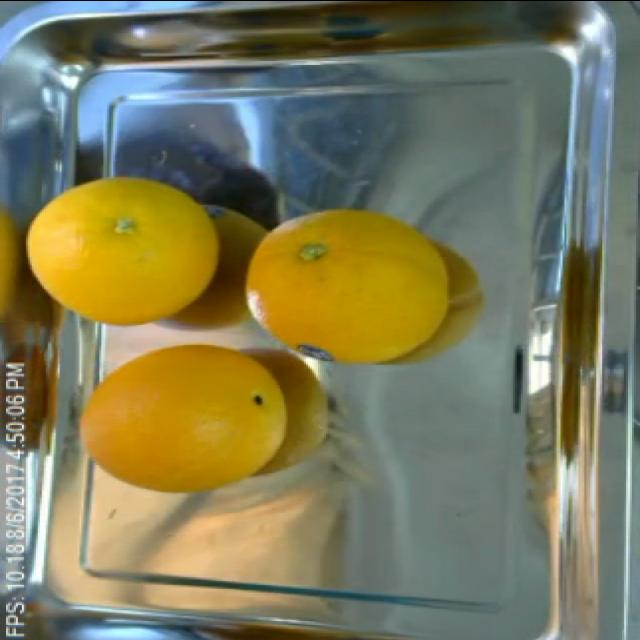Fruit: (6, 155, 205, 337)
